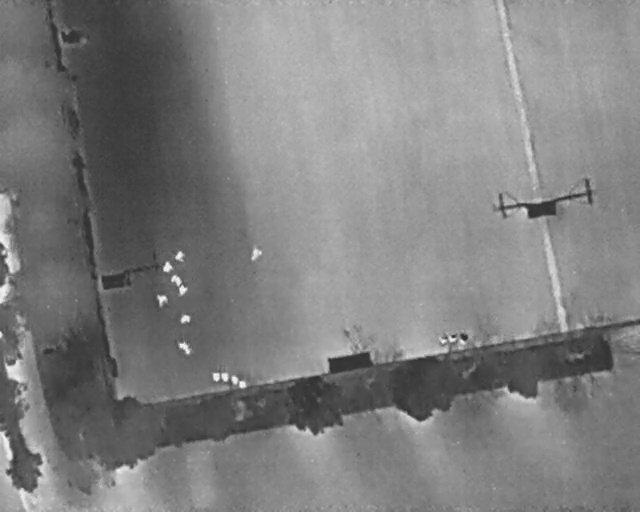Person: (177, 340, 192, 354), (250, 247, 262, 261), (157, 294, 168, 308), (162, 260, 173, 273), (180, 313, 191, 325), (171, 274, 182, 286), (179, 284, 187, 297), (176, 251, 185, 262)
